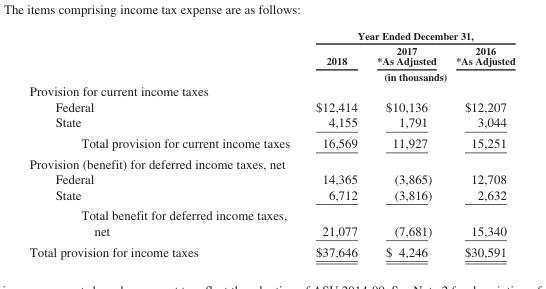table: (28, 28, 514, 258)
table column: (28, 28, 302, 258), (366, 28, 445, 258), (445, 28, 514, 258), (302, 28, 366, 258)
table column header: (28, 28, 514, 82)
table projected row header: (28, 152, 514, 171), (28, 82, 514, 98)
table row: (28, 204, 514, 240), (28, 42, 514, 68), (28, 132, 514, 152), (28, 152, 514, 171), (28, 114, 514, 132), (28, 186, 514, 204), (28, 240, 514, 258), (28, 82, 514, 98), (28, 98, 514, 114), (28, 171, 514, 186), (28, 28, 514, 42), (28, 68, 514, 82)
table spanning cell: (302, 28, 514, 42), (302, 68, 514, 82)
